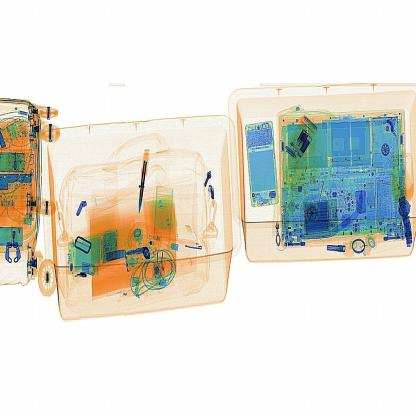gun: (130, 134, 156, 219)
